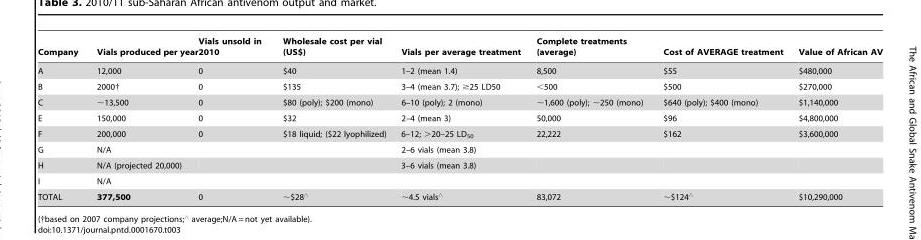table: (37, 36, 883, 201)
table column: (653, 36, 791, 201), (394, 36, 528, 201), (528, 36, 653, 201), (272, 36, 394, 201), (87, 36, 198, 201), (791, 36, 883, 201), (198, 36, 272, 201), (37, 36, 87, 201)
table column header: (37, 36, 883, 61)
table row: (37, 36, 883, 61), (37, 61, 883, 78), (37, 93, 883, 110), (37, 125, 883, 141), (37, 141, 883, 157), (37, 157, 883, 173), (37, 78, 883, 93), (37, 110, 883, 125), (37, 173, 883, 187), (37, 187, 883, 201)
